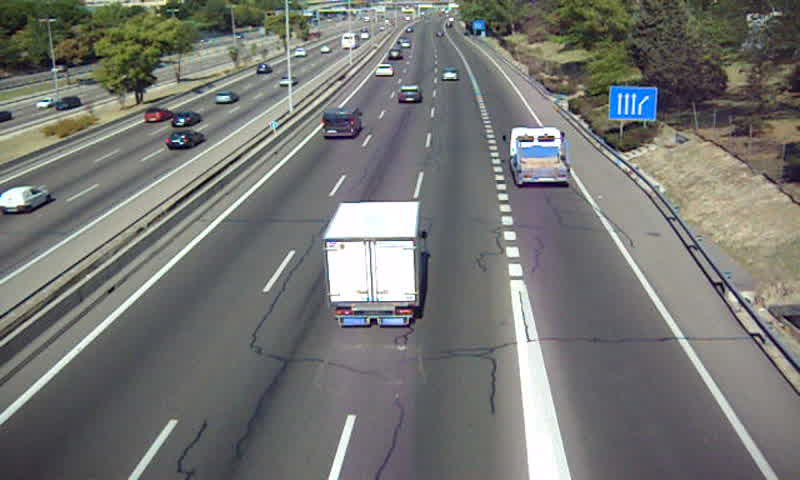car: (397, 84, 424, 107), (373, 63, 393, 80), (442, 68, 460, 82)
small-truck: (326, 203, 422, 327), (508, 126, 570, 184)
van: (320, 107, 362, 139)
